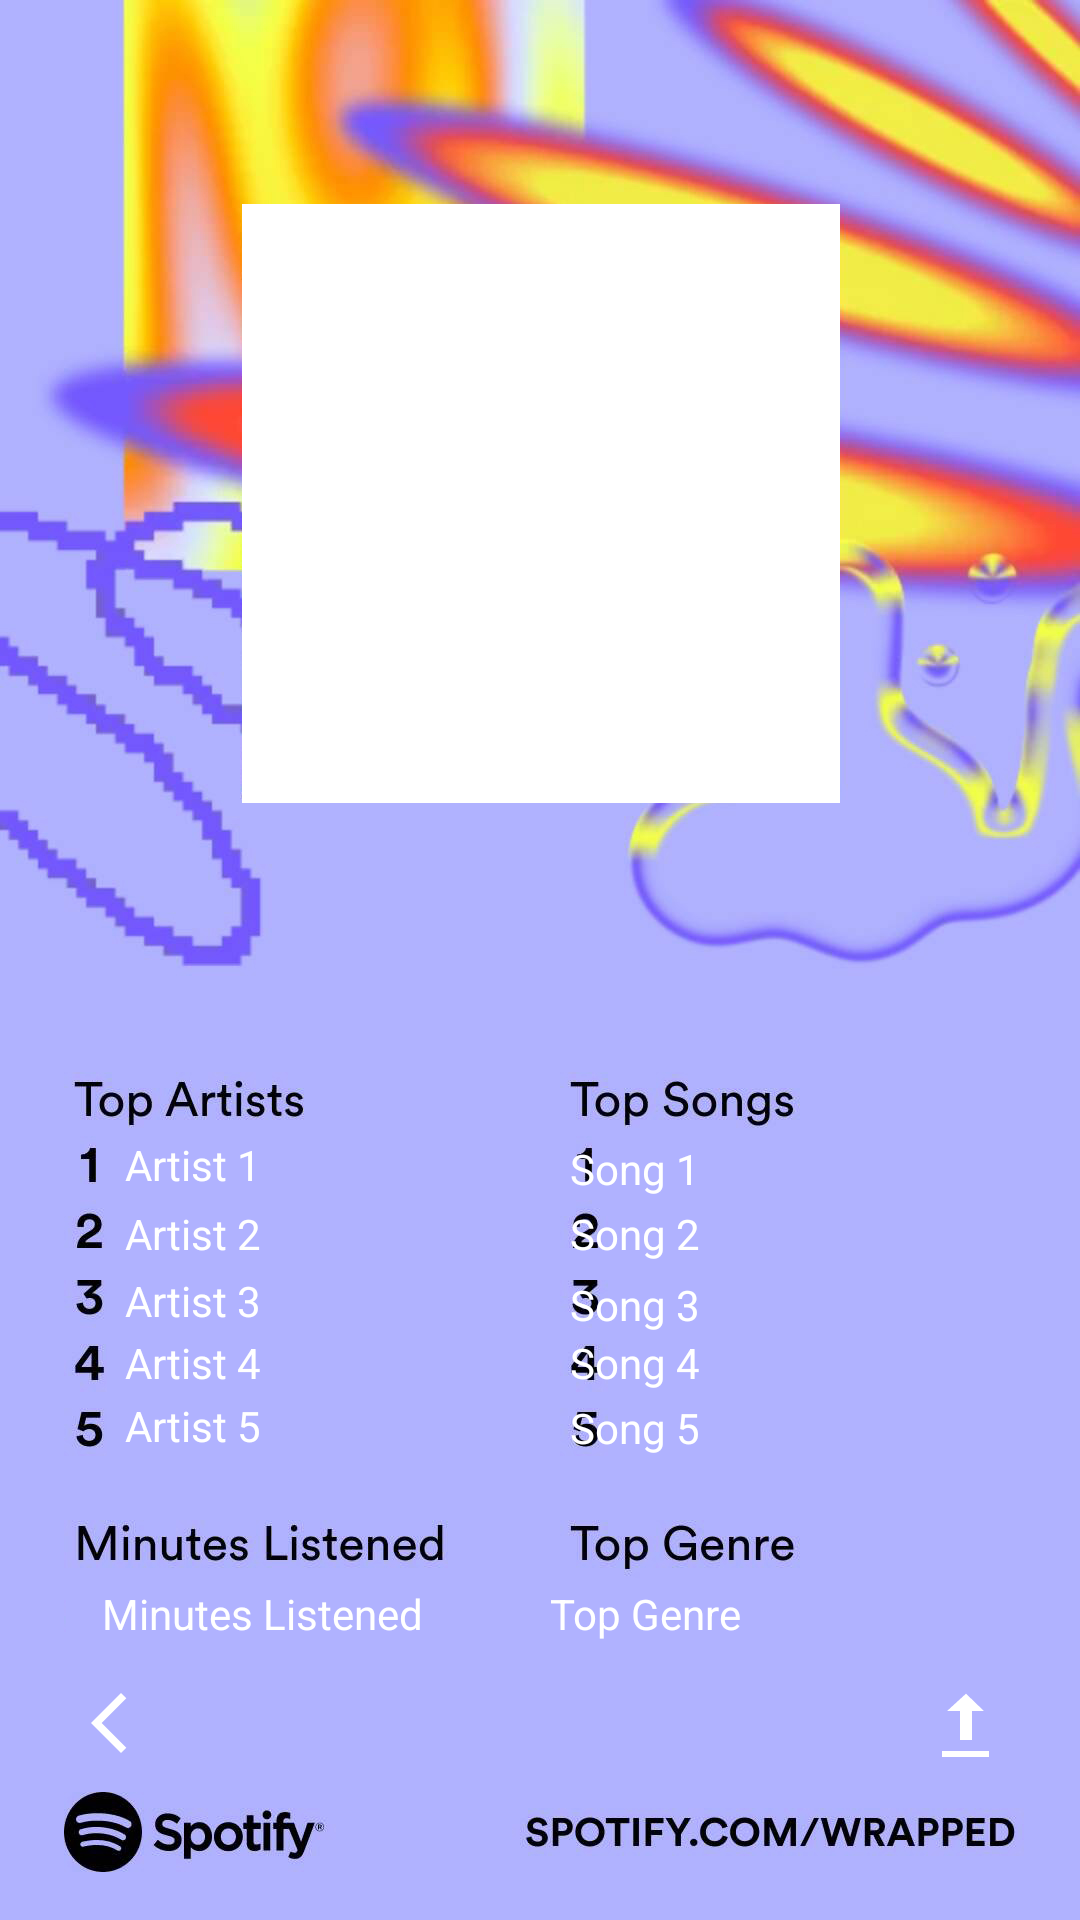

Where icons sit on this 1080×1920 app screen, as (x1, y1, x2, y2):
arrow back: (91, 1693, 126, 1753)
upload done: (942, 1694, 989, 1757)
